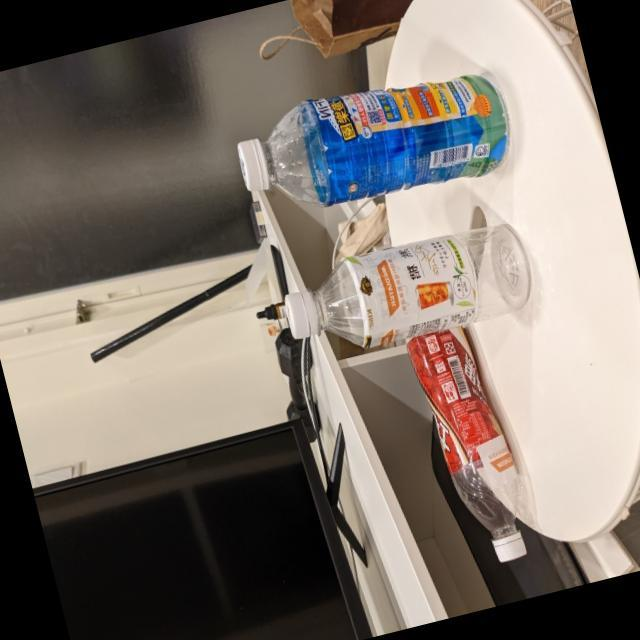good: (218, 47, 523, 249), (266, 205, 554, 378), (409, 304, 544, 590)
